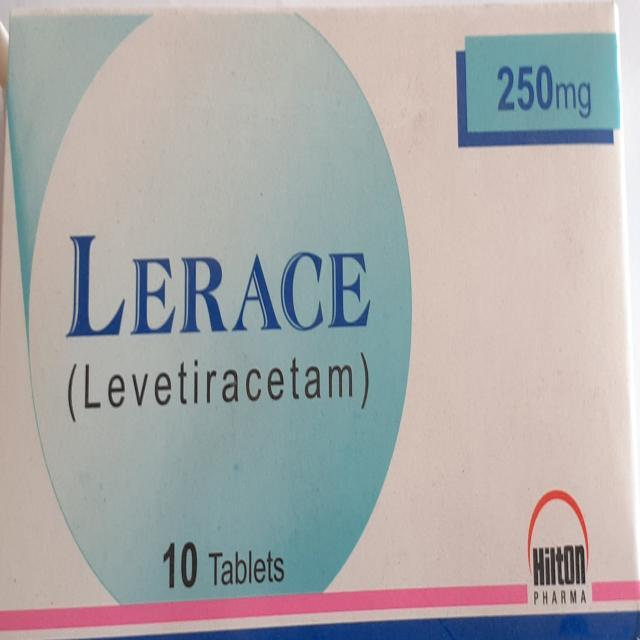drug-name: (64, 225, 371, 340)
